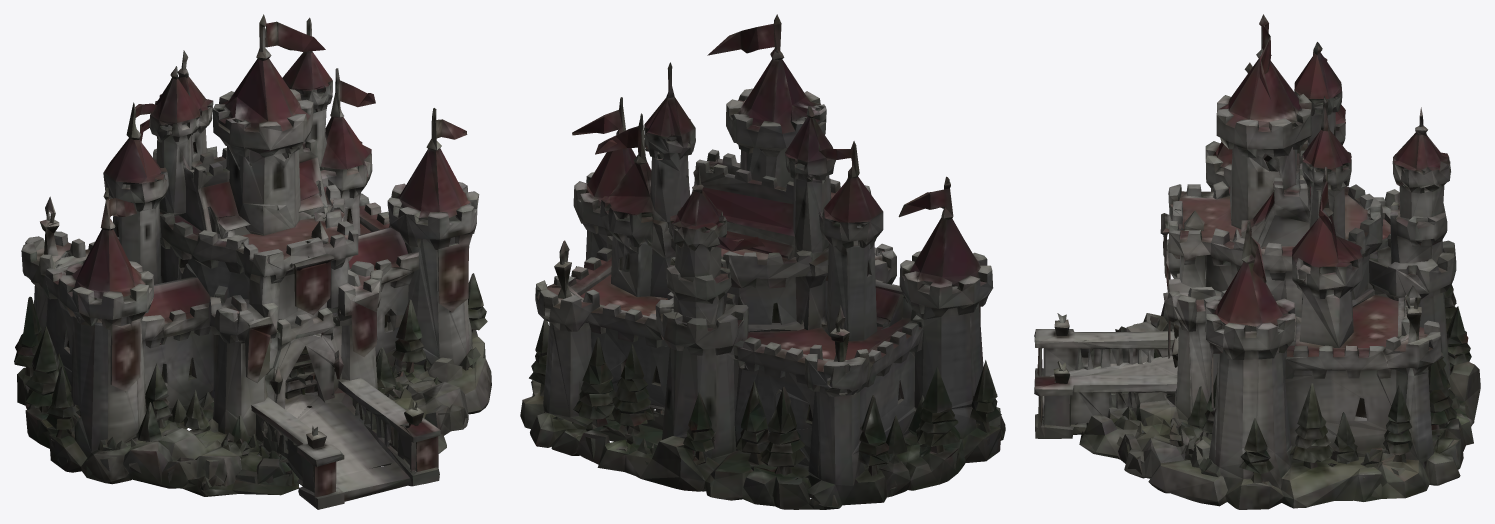
File: war_castle_01.glb
3 renders of one model, left to right at view 1: azimuth 30°, elevation 25°; view 2: azimuth 150°, elevation 25°; view 3: azimuth 270°, elevation 25°, orthographic.
Parts seen in each view (by area): view 1: geometry_0; view 2: geometry_0; view 3: geometry_0.
Boxes of the visible parts, x1,y1,x2,y2 form: geometry_0: [14, 14, 491, 509]; geometry_0: [520, 14, 1005, 509]; geometry_0: [1034, 14, 1480, 509].
Size of the model in its own units: 0.9966 by 0.8742 by 0.8916.
1 material, 1 textured.
